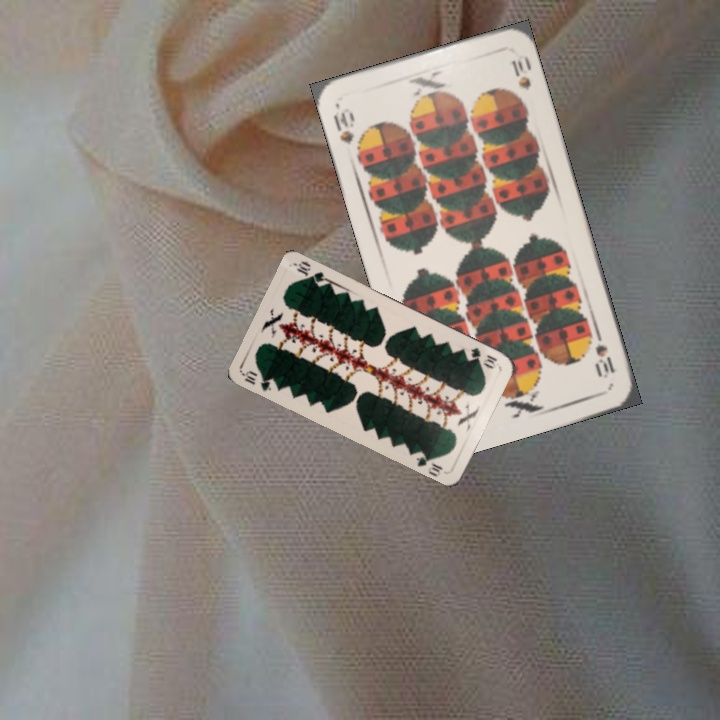G10: (240, 366, 280, 394), (466, 343, 500, 371)
S10: (591, 327, 618, 381), (329, 108, 357, 147)
